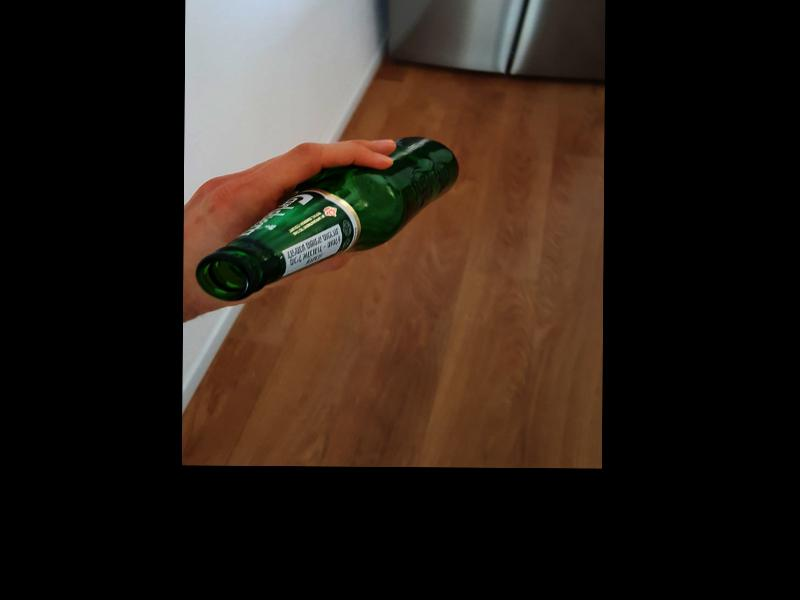Beer: (194, 135, 459, 303)
